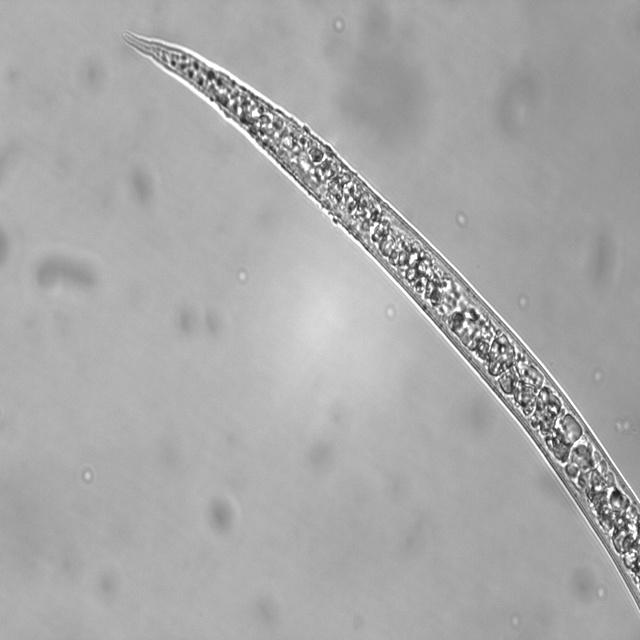Meloidogyne: (112, 29, 640, 616)
